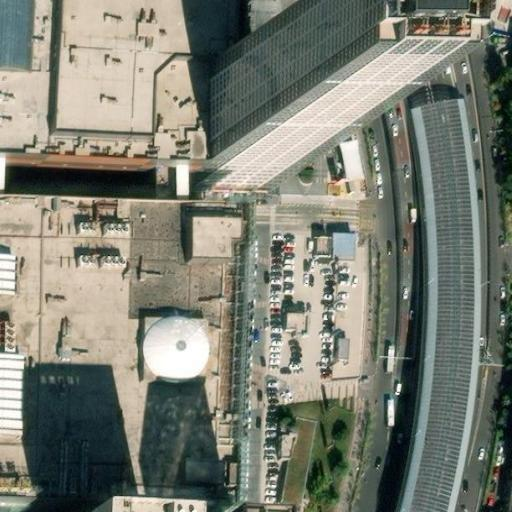building: (0, 0, 248, 217), (194, 79, 305, 184), (333, 132, 363, 179), (328, 227, 357, 257), (162, 216, 174, 247)
